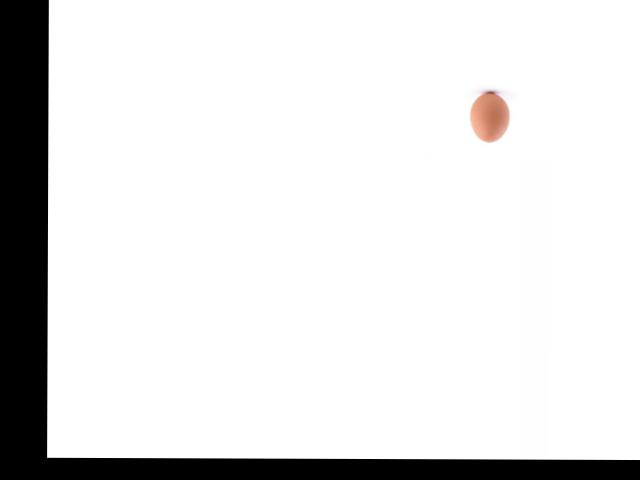egg: (470, 92, 510, 142)
